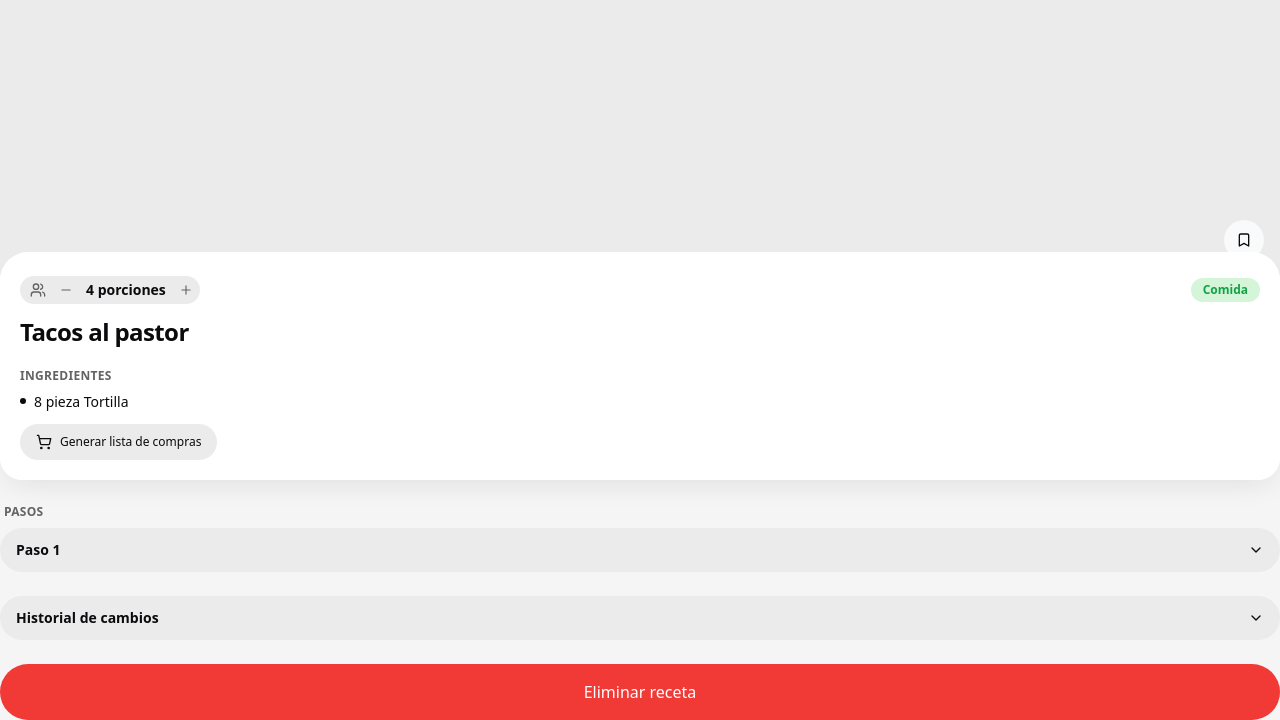
it: RecipeDetail — history + delete confirmations (recipes-module) › soft-delete confirmation is blocked client-side without a typed reason
(page scrolled)
Click the button "Eliminar receta" at (640, 692), box [0,664,1279,719]
(page scrolled)
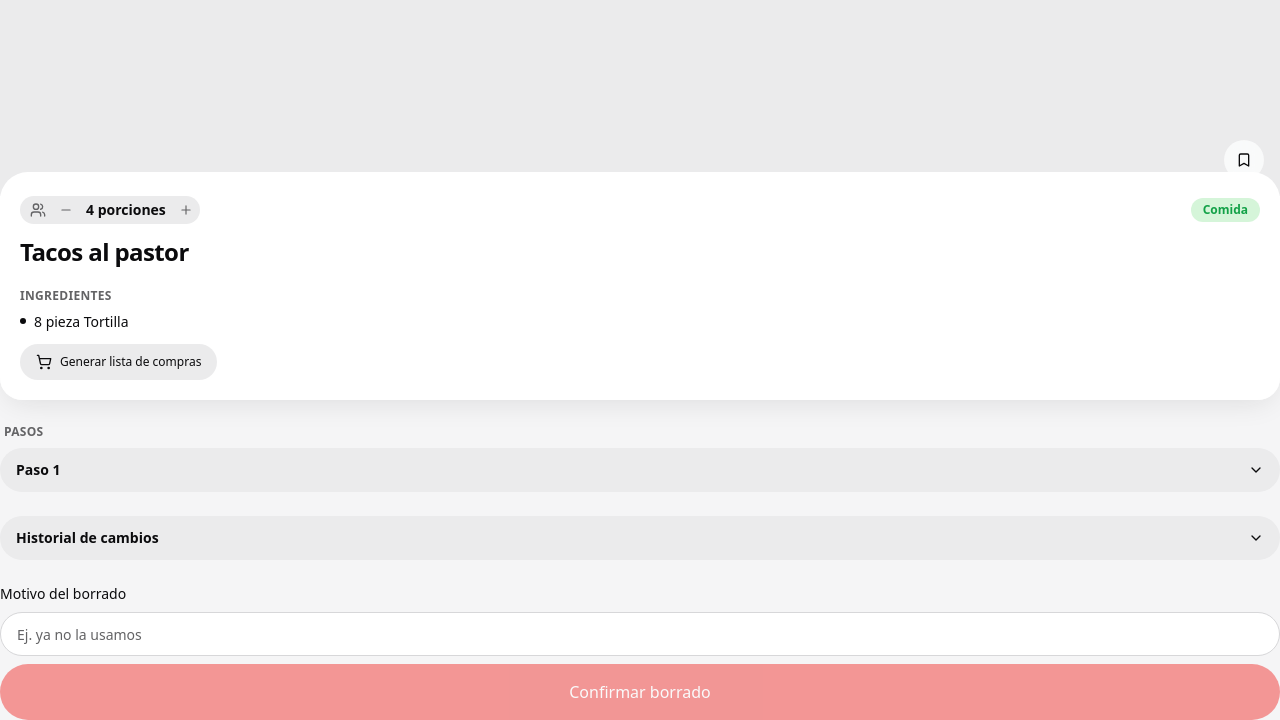
expect the button "Confirmar borrado" is disabled: met, box [0,664,1279,719]
Type "ya" into the field labelled "Motivo del borrado" at (640, 634), box [0,612,1279,656]
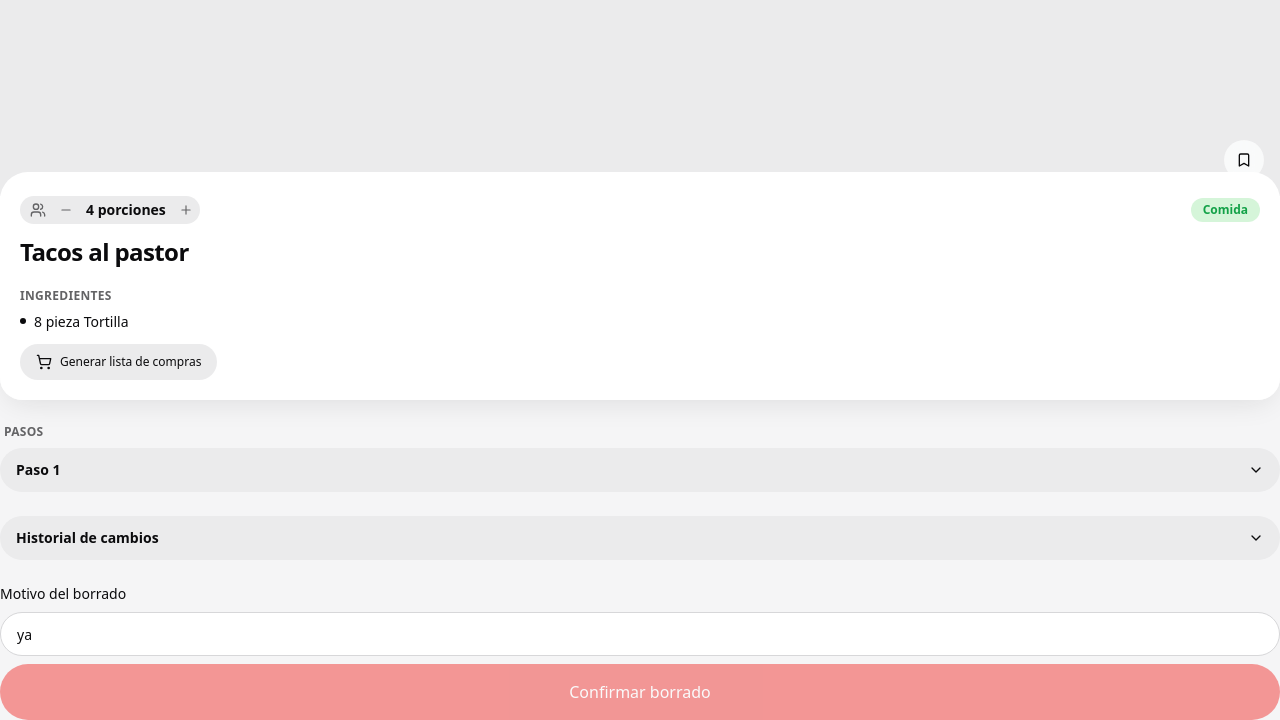
expect the button "Confirmar borrado" is disabled: met, box [0,664,1279,719]
Replace the text in the field labelled "Motivo del borrado" with "ya no la usamos" at (640, 634), box [0,612,1279,656]
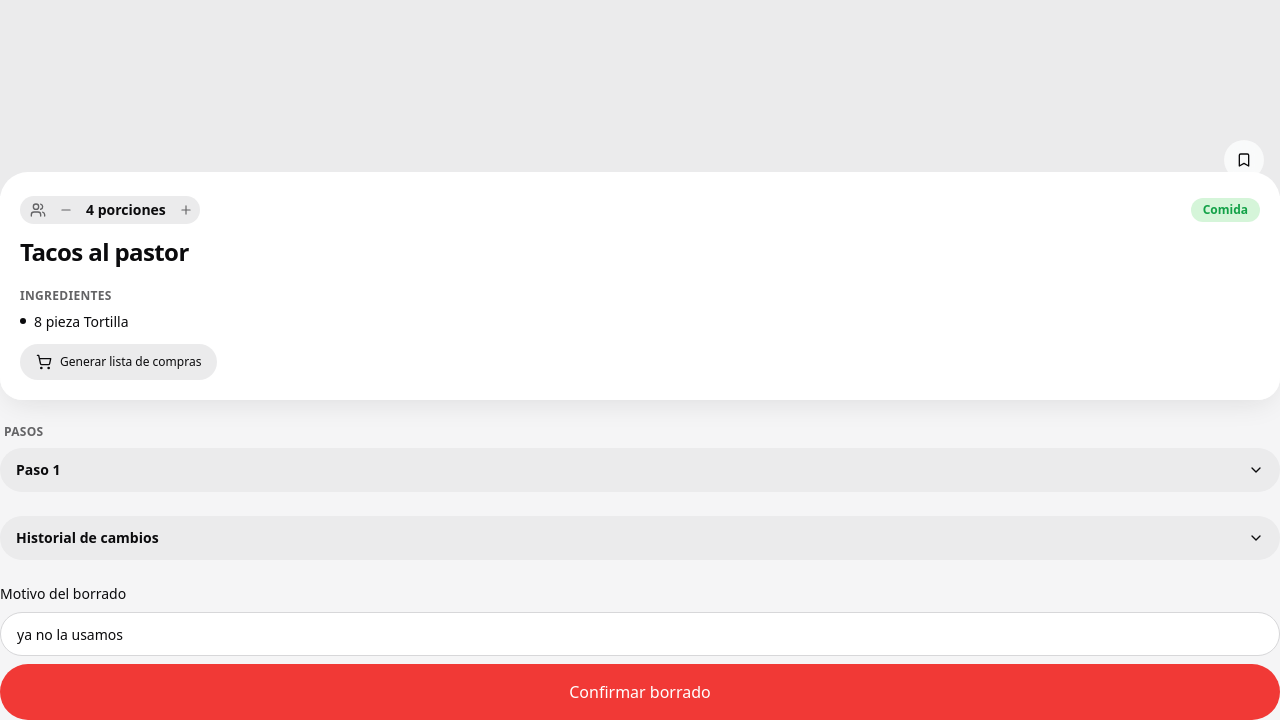
expect the button "Confirmar borrado" is enabled: met, box [0,664,1279,719]
